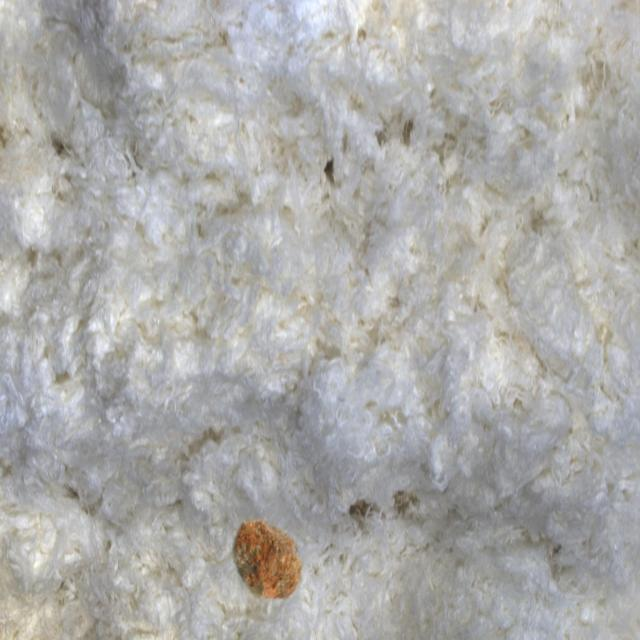dust: (202, 482, 343, 640)
